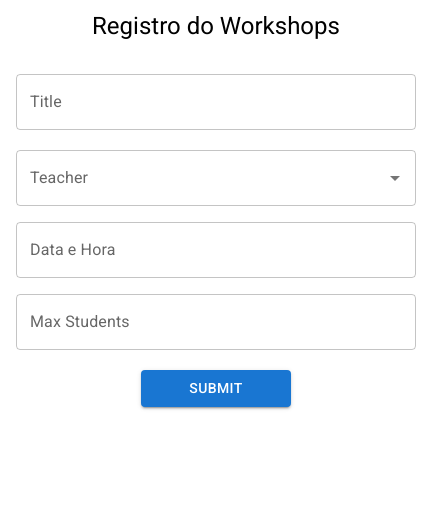
Test case: WorkshopPage › deve exibir mensagens de erro para campos obrigatórios
The width and height of the screenshot is (433, 518).
Click the button "Submit": coordinates (216, 388) [141,370,291,406]
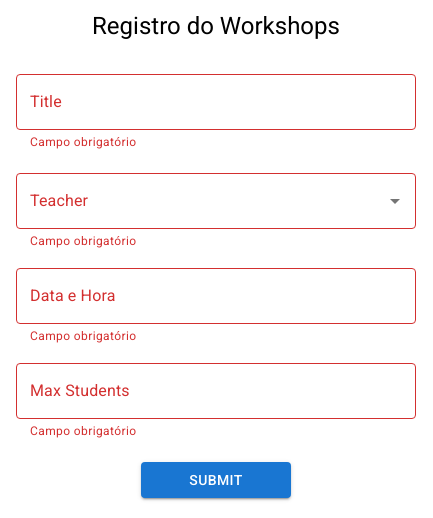
Check: the text "Campo obrigatório" is shown 4 times, box [30,135,136,149]; [30,234,136,248]; [30,329,136,343]; [30,424,136,438]
